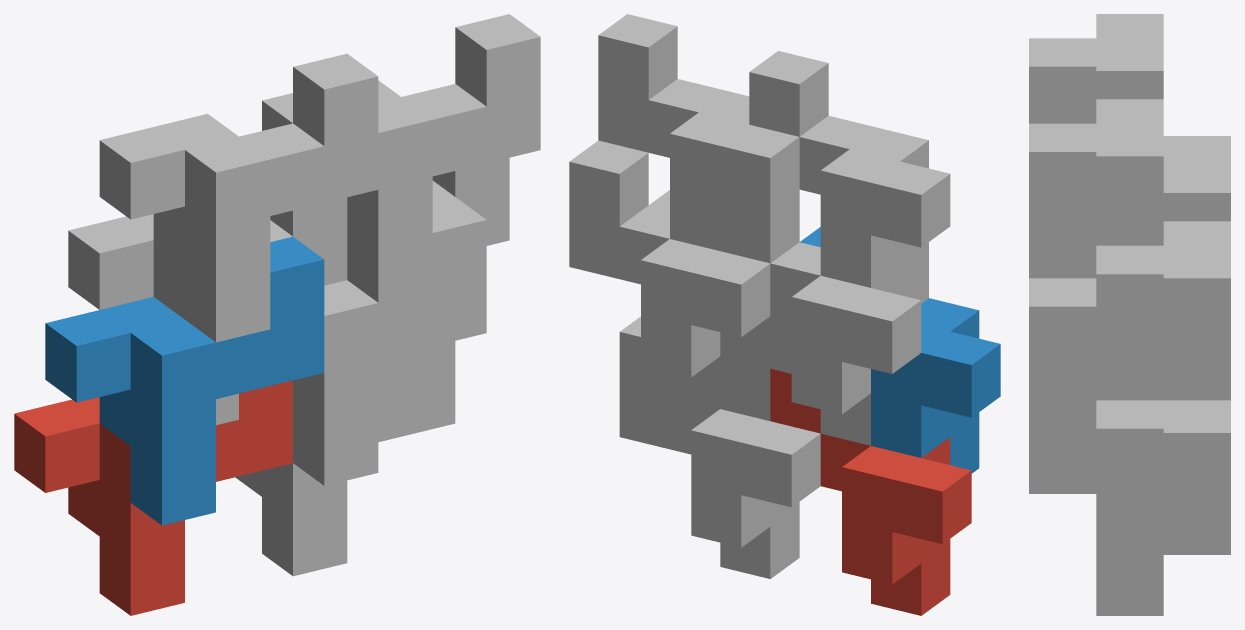
File: tiling.obj
3 views of the same model, side by side, from view 1: azimuth 30°, elevation 25°; view 2: azimuth 150°, elevation 25°; view 3: azimuth 270°, elevation 25° (orthographic). The views are drawn at different scales.
Parts seen in each view (by area): view 1: copy_1_domain_4, copy_1_domain_2, copy_1_domain_8, copy_1_domain_1, copy_1_domain_6, copy_1_domain_5, copy_1_domain_3, copy_1_domain_7; view 2: copy_1_domain_7, copy_1_domain_4, copy_1_domain_8, copy_1_domain_5, copy_1_domain_3, copy_1_domain_1, copy_1_domain_2, copy_1_domain_6; view 3: copy_1_domain_5, copy_1_domain_7, copy_1_domain_8, copy_1_domain_6, copy_1_domain_4, copy_1_domain_3.
Boxes of the visible parts, <box> form: copy_1_domain_4: <box>99,53,378,342</box>; copy_1_domain_2: <box>45,236,324,525</box>; copy_1_domain_8: <box>262,14,540,302</box>; copy_1_domain_1: <box>14,380,292,615</box>; copy_1_domain_6: <box>293,197,486,485</box>; copy_1_domain_5: <box>235,341,455,576</box>; copy_1_domain_3: <box>68,197,347,425</box>; copy_1_domain_7: <box>378,157,509,385</box>; copy_1_domain_7: <box>569,140,770,408</box>; copy_1_domain_4: <box>749,51,950,303</box>; copy_1_domain_8: <box>598,14,799,250</box>; copy_1_domain_5: <box>619,316,820,578</box>; copy_1_domain_3: <box>720,189,921,445</box>; copy_1_domain_1: <box>770,368,971,615</box>; copy_1_domain_2: <box>800,227,1000,473</box>; copy_1_domain_6: <box>649,190,791,420</box>; copy_1_domain_5: <box>1096,400,1230,615</box>; copy_1_domain_7: <box>1096,221,1230,400</box>; copy_1_domain_8: <box>1029,99,1163,278</box>; copy_1_domain_6: <box>1029,278,1096,493</box>; copy_1_domain_4: <box>1029,14,1163,123</box>; copy_1_domain_3: <box>1163,136,1230,221</box>.
Size of the model in its own units: 8 by 9 by 3.
